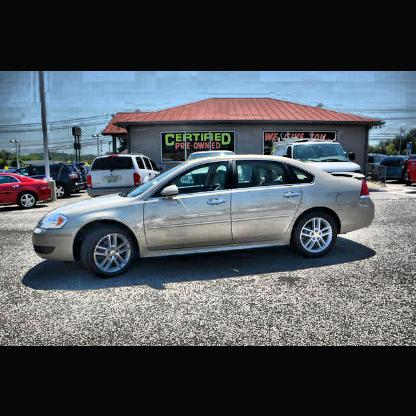Chevrolet Impala Sedan 2007: (35, 154, 377, 278)
